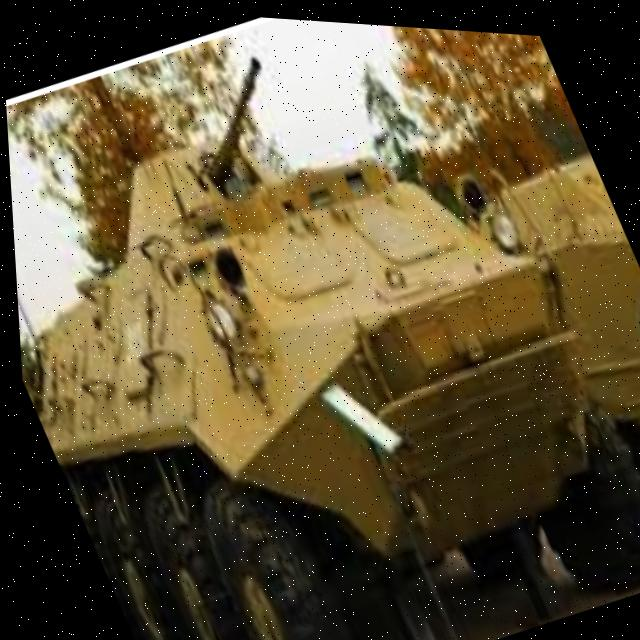MIL_APC: (1, 15, 640, 640)
